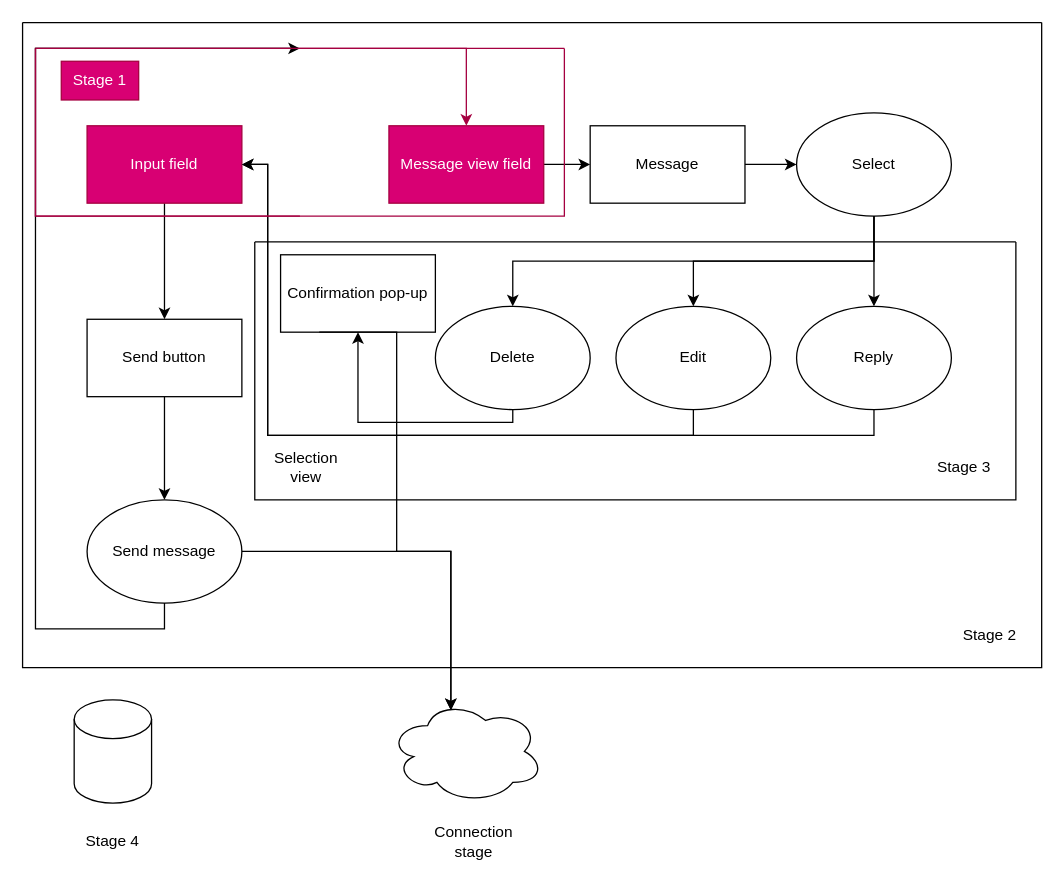
Some shapes in this 1064 by 884 pixel diagram are drawn without their labels. Here are the shapes that lost their labels. From the top down, the box of each, then its label:
(73, 699, 152, 803): Message DB
(388, 699, 544, 803): Apply to chat
